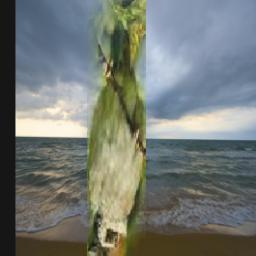Sparrow: (86, 0, 145, 256)
